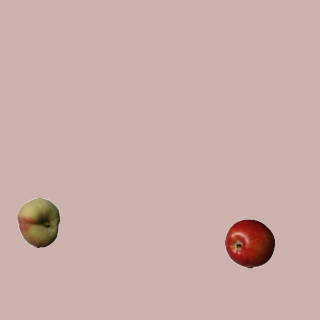Apple Braeburn: (224, 218, 274, 268)
Peach Flat: (13, 197, 63, 247)
